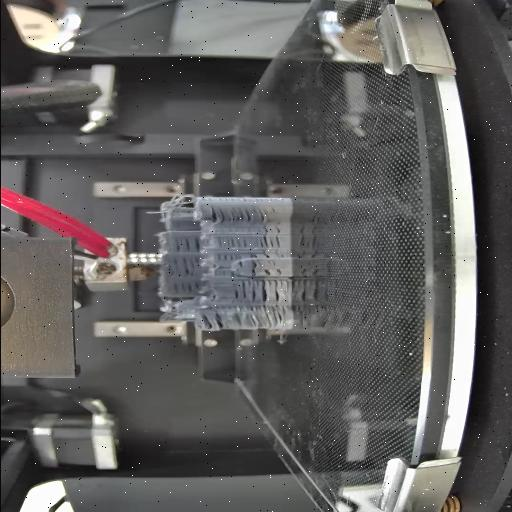cracks: (230, 278, 287, 304), (232, 305, 284, 329), (210, 206, 270, 224), (260, 224, 282, 258), (169, 256, 201, 276), (198, 308, 222, 331), (172, 236, 200, 254), (170, 280, 200, 294), (216, 236, 246, 247), (248, 252, 258, 276), (260, 268, 284, 276), (214, 253, 236, 261), (212, 270, 236, 276), (234, 260, 244, 270)
